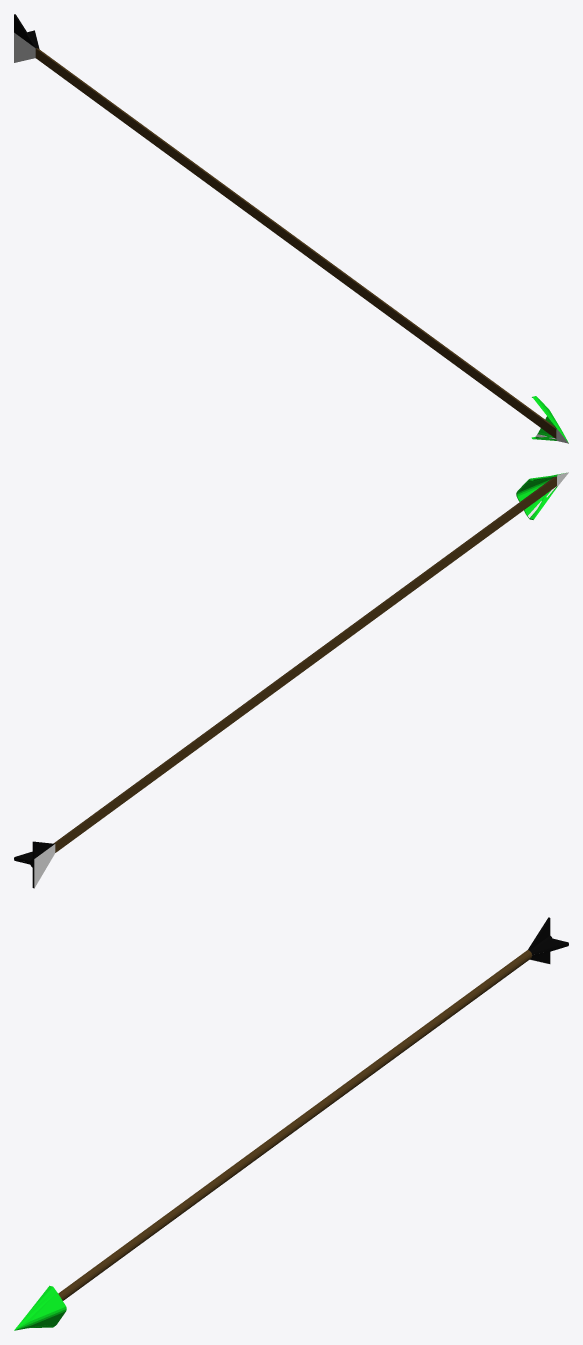
The model's file is piercing_shot.dae.
3 views of the same model, one above another, from view 1: azimuth 30°, elevation 25°; view 2: azimuth 150°, elevation 25°; view 3: azimuth 330°, elevation 25° (orthographic). The views are drawn at different scales.
Visible parts, largest first — view 1: Cube; view 2: Cube; view 3: Cube.
Part boxes in pixels (left/top/right/bottom): Cube: left=14, top=14, right=568, bottom=443; Cube: left=14, top=472, right=568, bottom=888; Cube: left=14, top=917, right=568, bottom=1330.
Bounding box in the file's own units: 4.51 × 205 × 9.91.
